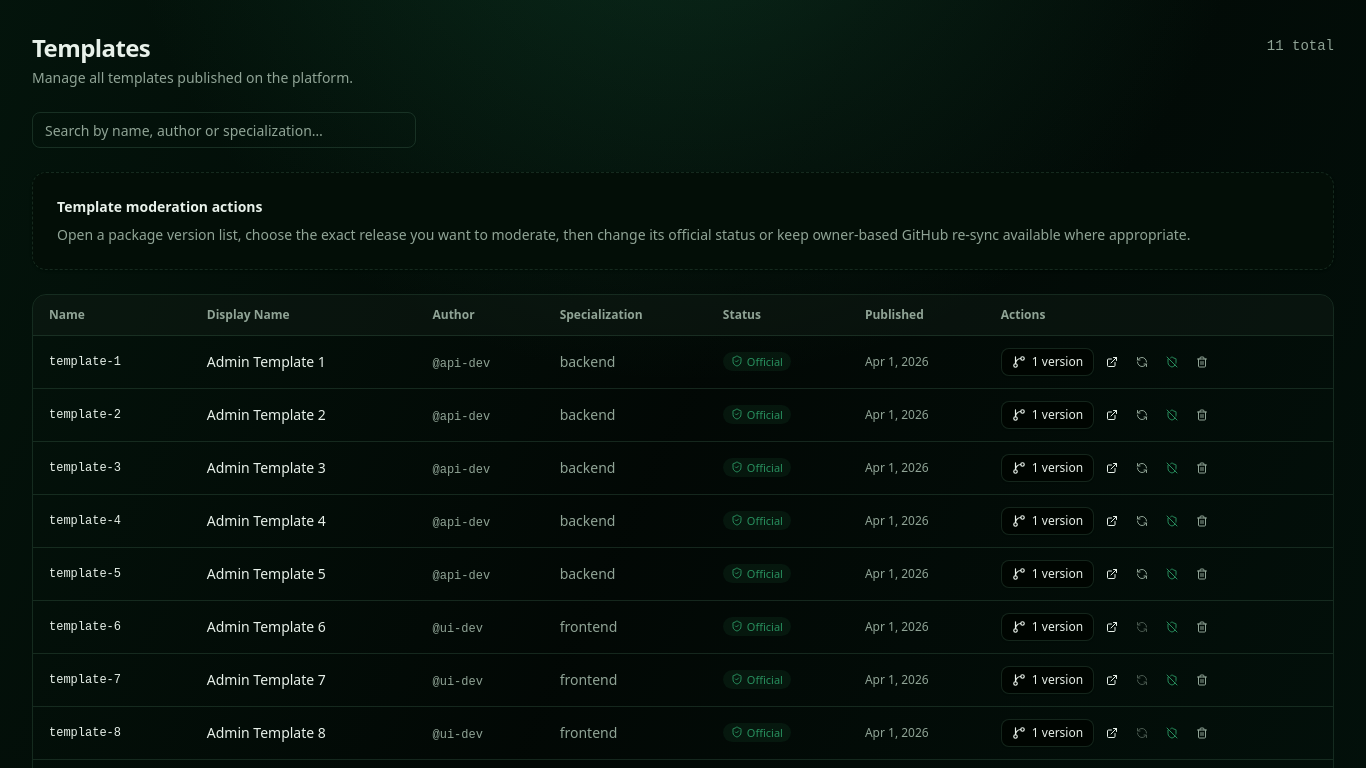
Test case: AdminTemplatesPage › renders moderation controls and filters templates
Expected: the text "Template moderation actions" is shown, [57,197,262,216]
Expected: the text "11 total" is shown, [1267,36,1334,56]
Type "backend" into the field with placeholder "Search by name, author or specialization…" at (224, 130), box [32,112,416,148]
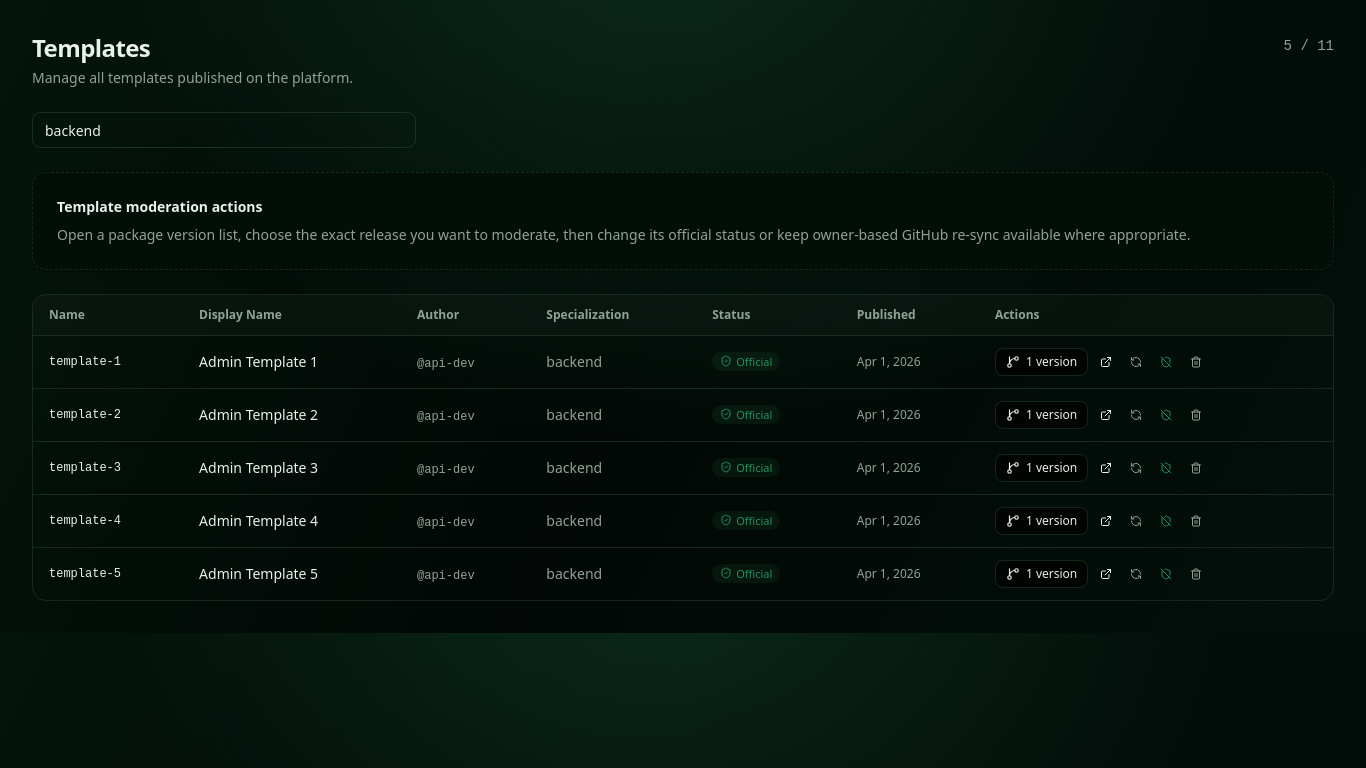
Expected: the text "Admin Template 1" is shown, [183,336,401,388]
Expected: the text "5 / 11" is shown, [1284,36,1334,56]
